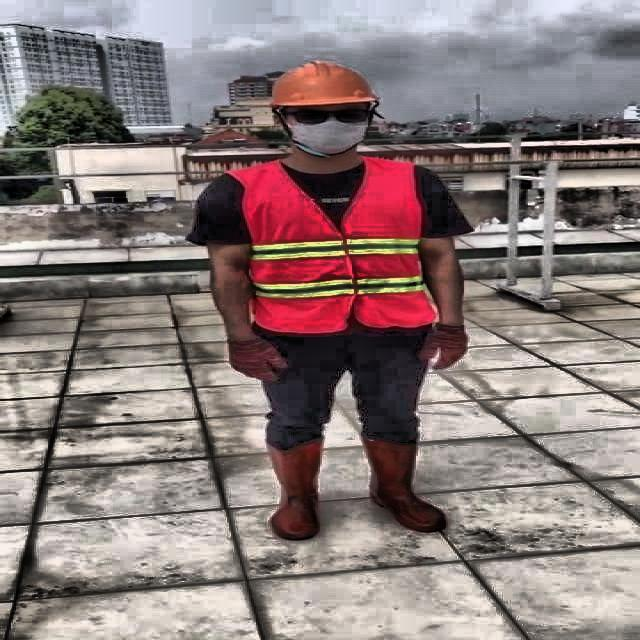safety_helmet: (267, 62, 377, 108)
safety_jacket: (236, 164, 439, 331)
